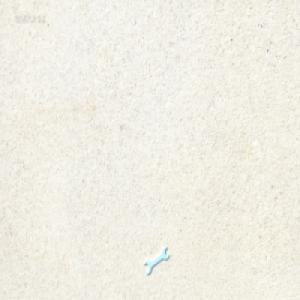Wrench: (141, 244, 166, 273)
